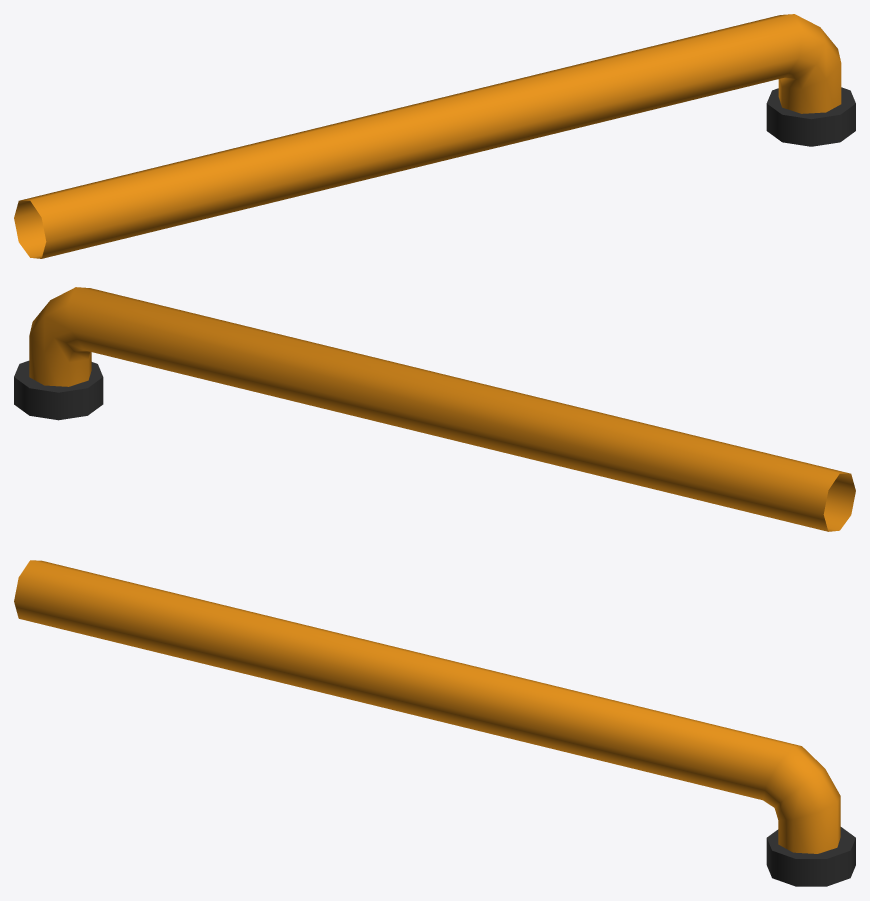
The model's file is Pipe_1_C_2_3.fbx.
The picture shows the model from 3 angles, top to bottom: view 1: azimuth 30°, elevation 25°; view 2: azimuth 150°, elevation 25°; view 3: azimuth 330°, elevation 25°; orthographic projection.
Visible parts, largest first — view 1: Pipe_1_C_2_3; view 2: Pipe_1_C_2_3; view 3: Pipe_1_C_2_3.
Boxes of the visible parts, <box> form: Pipe_1_C_2_3: <box>14,14,855,258</box>; Pipe_1_C_2_3: <box>14,287,855,531</box>; Pipe_1_C_2_3: <box>14,560,855,886</box>.
Bounding box in the file's own units: 320 × 43.92 × 30.12.
